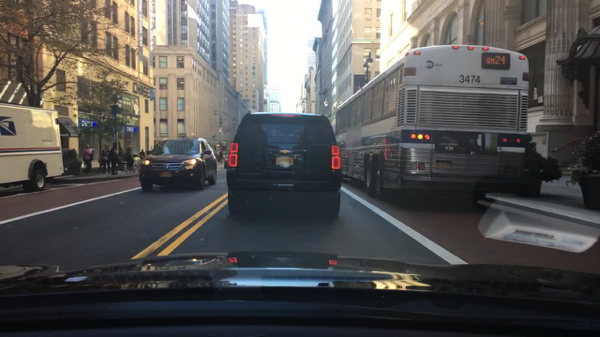bus: (335, 44, 530, 209)
car: (228, 110, 341, 216), (139, 136, 218, 191)
person: (98, 146, 113, 175), (81, 143, 92, 175), (110, 142, 120, 177), (123, 147, 134, 174), (219, 146, 225, 165), (213, 147, 218, 161), (139, 150, 145, 161)
traffic sign: (219, 127, 222, 133)
truck: (0, 103, 66, 192)
